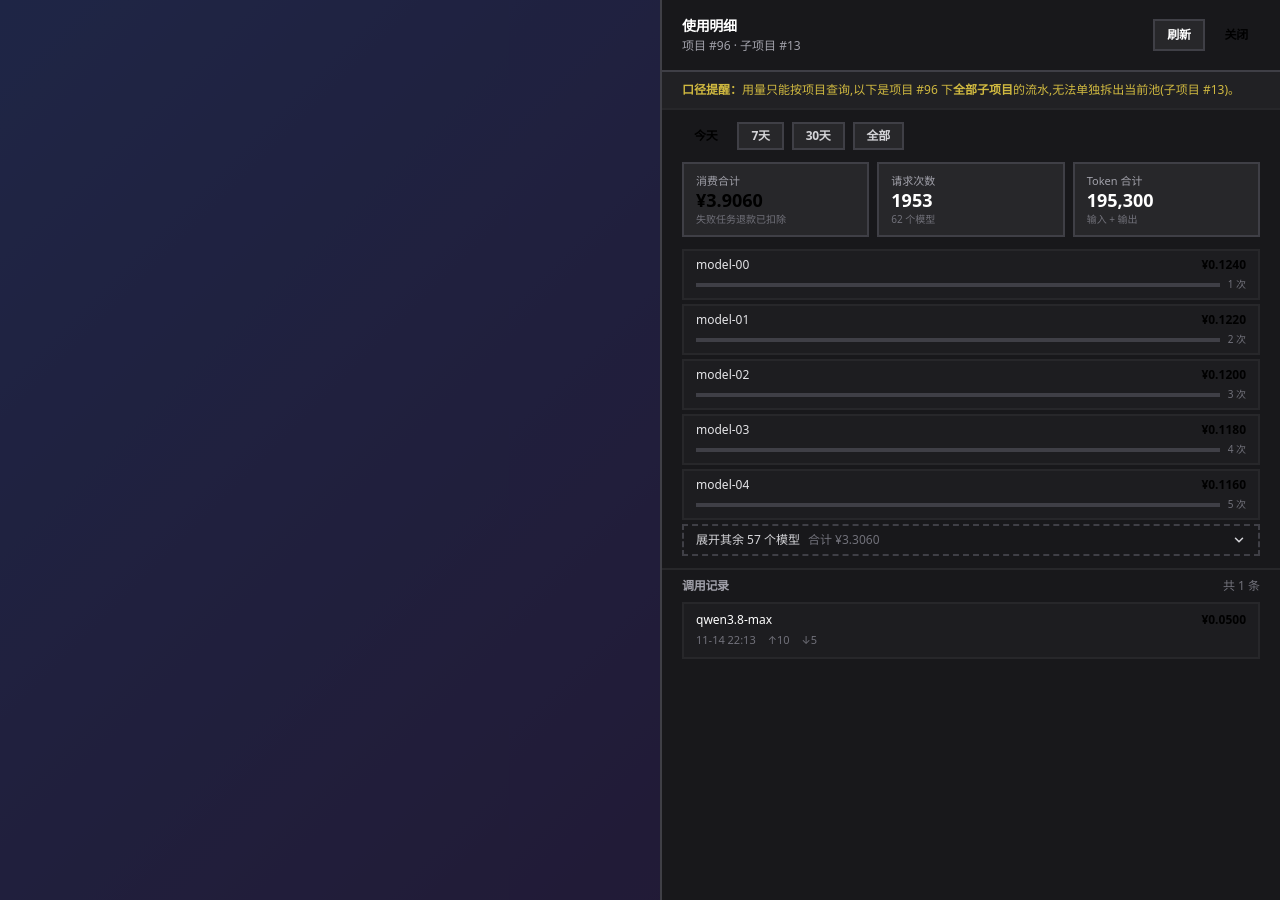
Test case: UsageDrawer 展开「其余模型」后的版面 › 「收起」按钮在滚动区之外,列表再长也始终看得见、点得到
Expected: the number of elements with test id "usage-summary-model" is 5, [682,249,1260,300]; [682,304,1260,355]; [682,359,1260,410]; [682,414,1260,465]; [682,469,1260,520]
What coordinates should you click on to do the following:
click the button with test id "usage-summary-toggle"
I would click on:
 (748, 540)
Its box is [682,524,1260,556].
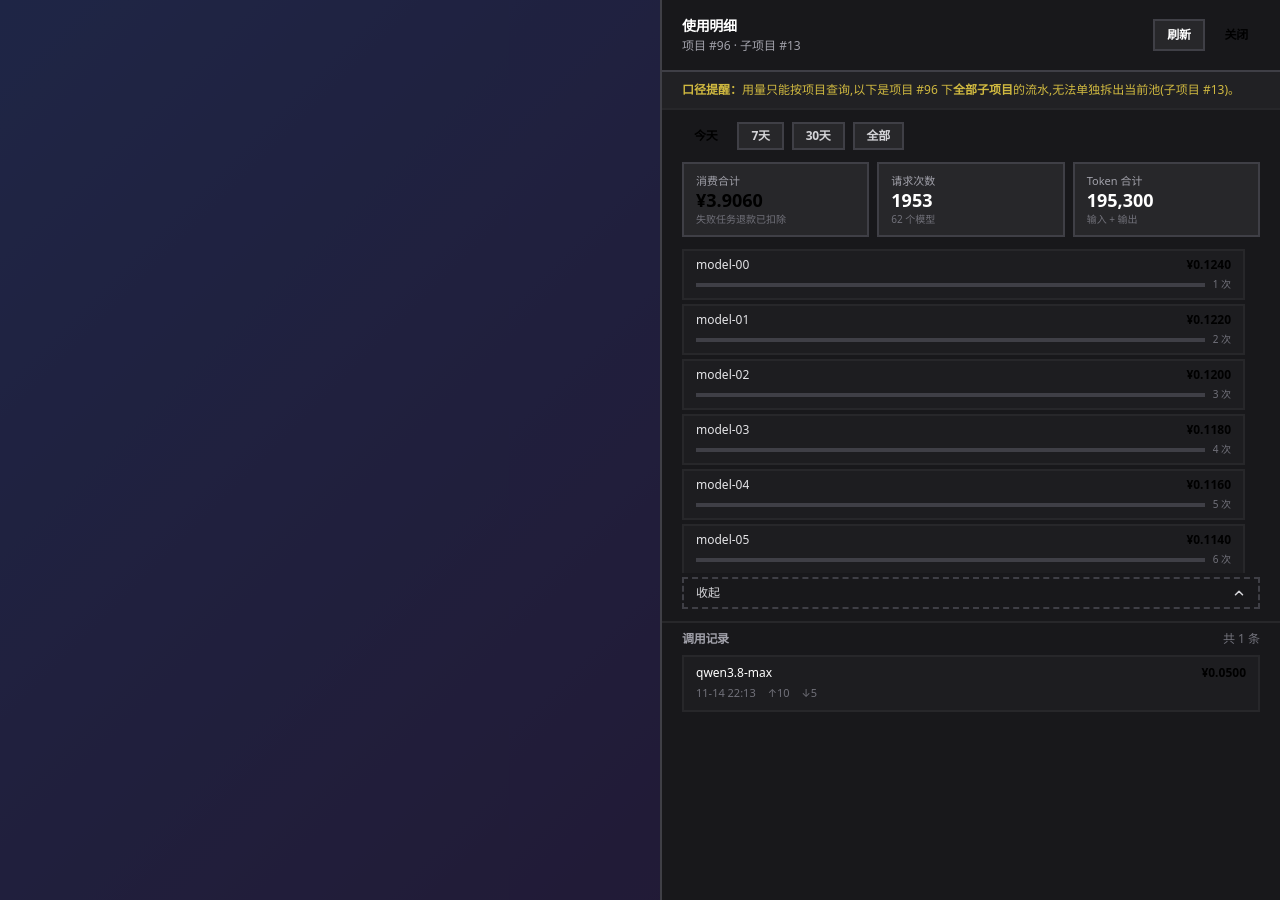
Expected: the button with test id "usage-summary-toggle" is expanded, [682,577,1260,609]
